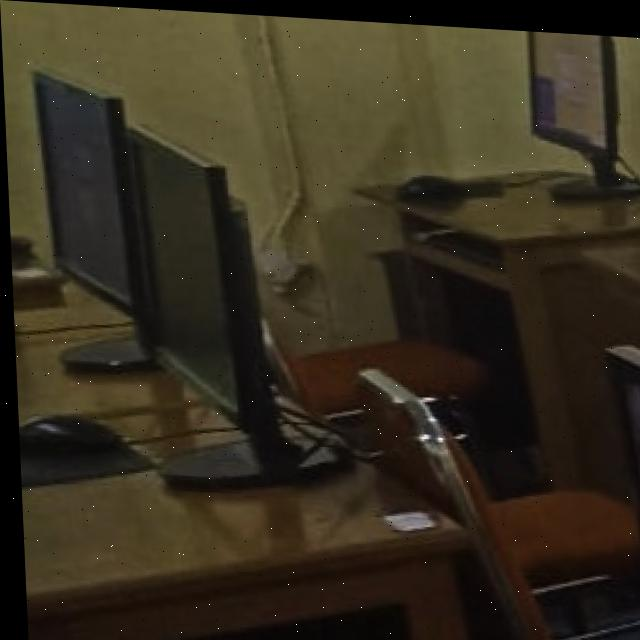offscreen: (126, 127, 238, 415), (37, 75, 129, 302)
onscreen: (531, 25, 610, 144)
